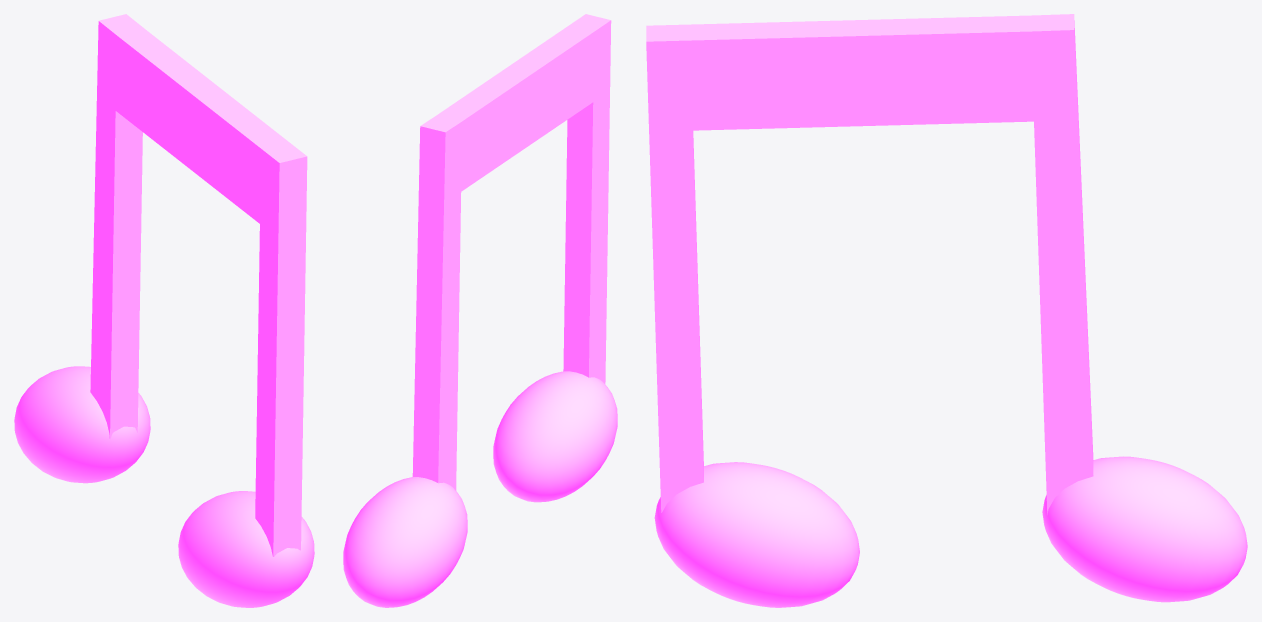
Rendered from note (1).fbx.
3 views of the same model, side by side, from view 1: azimuth 30°, elevation 25°; view 2: azimuth 150°, elevation 25°; view 3: azimuth 270°, elevation 25° (orthographic). The views are drawn at different scales.
Parts seen in each view (by area): view 1: Two thingys; view 2: Two thingys; view 3: Two thingys.
Part boxes in pixels (x1,y1,x2,y2): Two thingys: [14, 14, 314, 607]; Two thingys: [343, 14, 617, 607]; Two thingys: [646, 14, 1247, 607].
Size of the model in its own units: 1.11 by 4.89 by 4.6.
